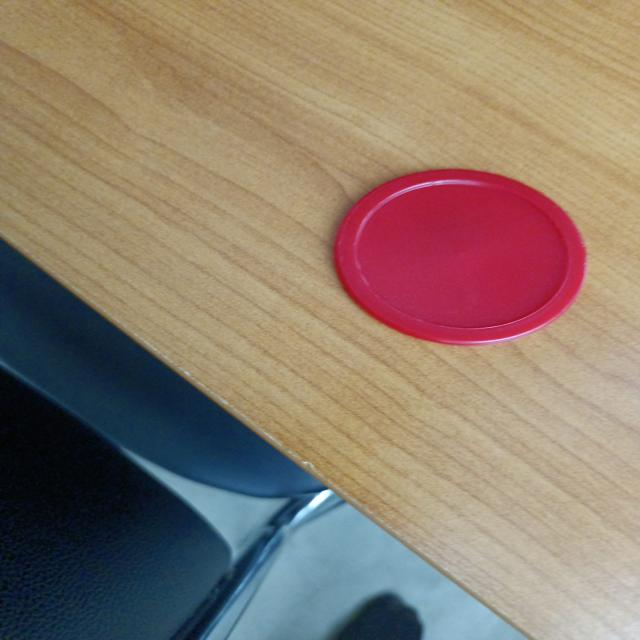chip: (330, 166, 586, 346)
